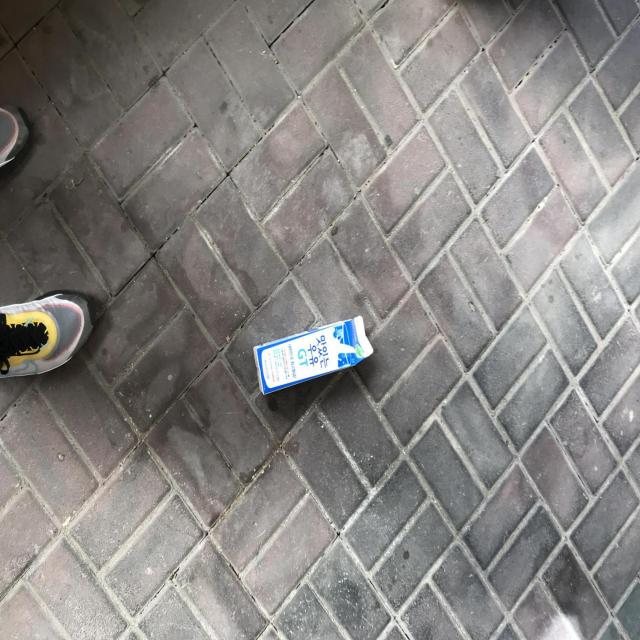paperpack: (254, 316, 373, 394)
